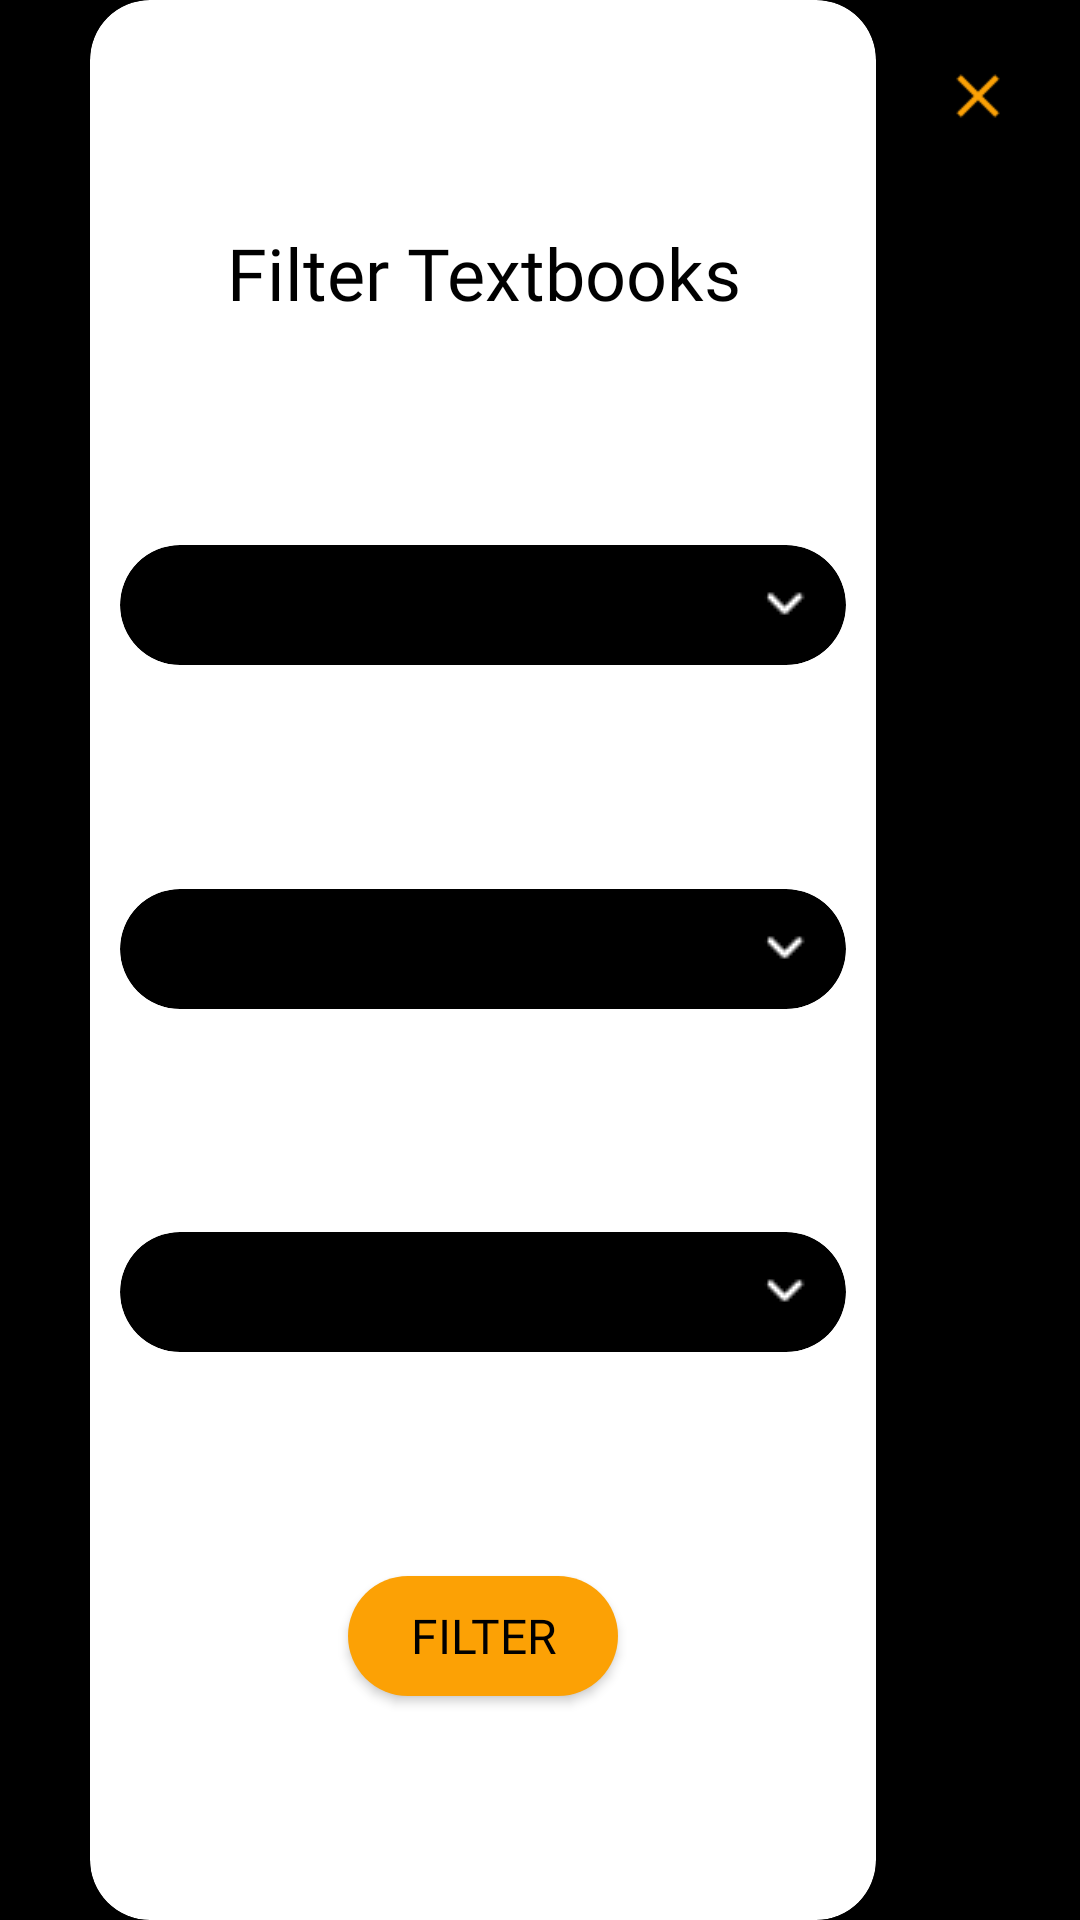

Named icons in this screenshot (1080px x 1920px) and their centers, (x,y):
Close filter options: (978,96)
